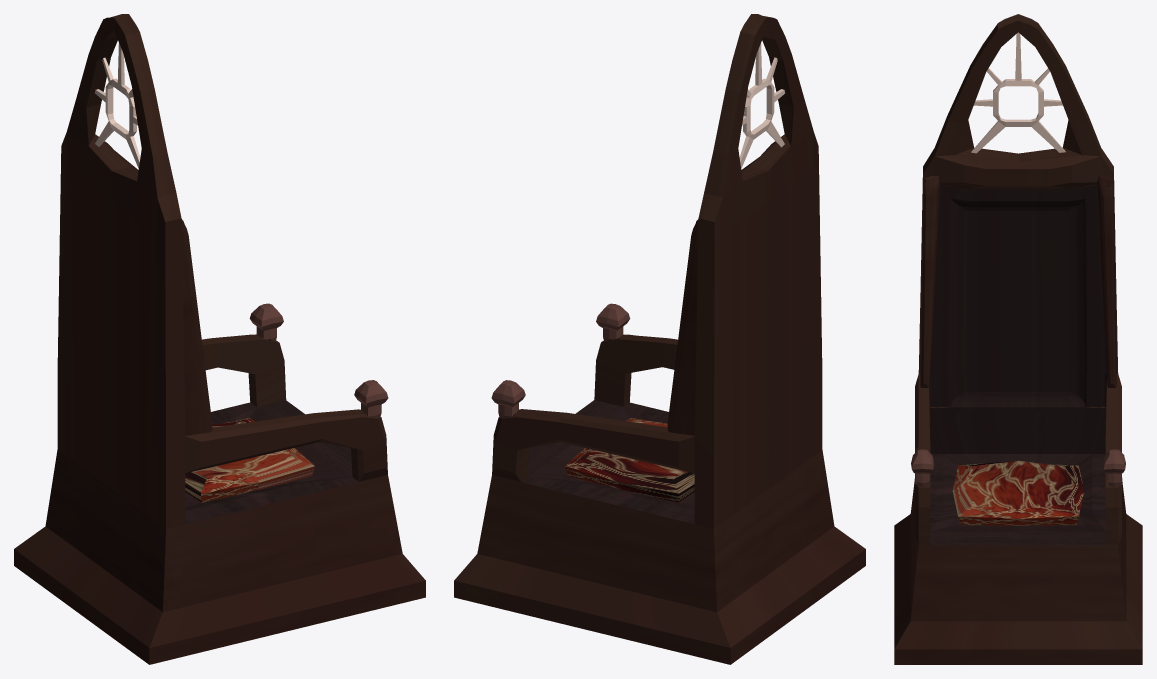
Rendered from broken_FlaskSquare.fbx_floor3.fbx_Thrown.fbx.
3 renders of one model, left to right at view 1: azimuth 30°, elevation 25°; view 2: azimuth 150°, elevation 25°; view 3: azimuth 270°, elevation 25°, orthographic. The views are drawn at different scales.
Visible parts, largest first — view 1: Cube.011; view 2: Cube.011; view 3: Cube.011.
Boxes of the visible parts, bbox=[...] form: Cube.011: bbox=[14, 14, 425, 664]; Cube.011: bbox=[454, 14, 865, 664]; Cube.011: bbox=[894, 14, 1142, 664].
Size of the model in its own units: 107 by 217 by 90.41.
